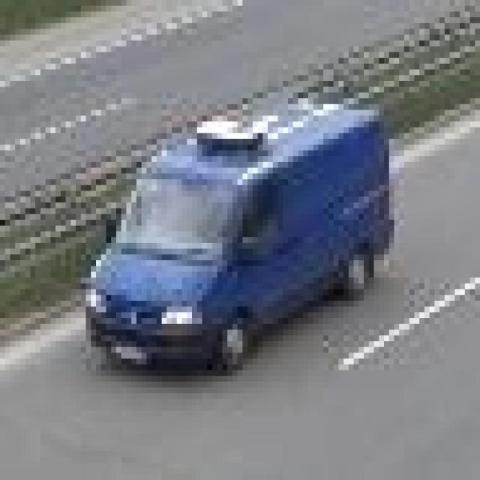van: (88, 98, 392, 376)
